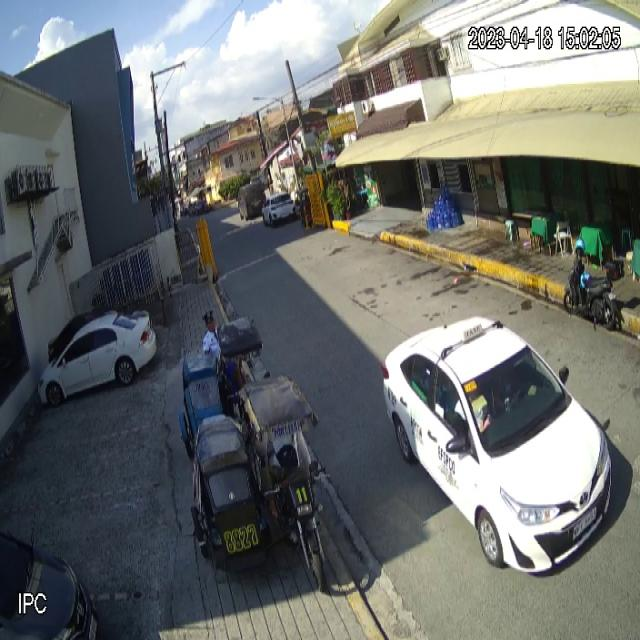Car: (382, 313, 612, 576), (36, 307, 157, 411)
Motorcycle: (562, 250, 625, 330)
Tricycle: (191, 373, 329, 593), (177, 312, 264, 459)
